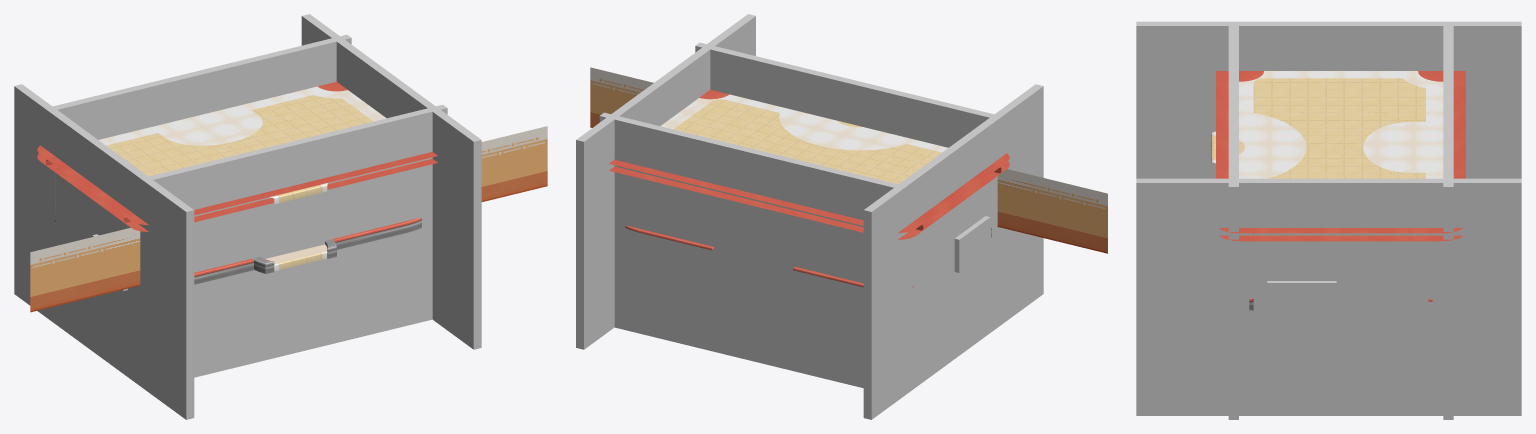
File: centre.glb
3 renders of one model, left to right at view 1: azimuth 30°, elevation 25°; view 2: azimuth 150°, elevation 25°; view 3: azimuth 270°, elevation 25°, orthographic. The views are drawn at different scales.
Parts seen in each view (by area): view 1: mur_sud_colli, mur_ouest_colli, mur_est_colli, mur_nord_colli, toit-1, f27d03c5953f706925a7d4350.001, toit, com_pc_flame_01.001, f27d03c5953f706925a7d4350.002, f27d03c5953f706925a7d4350, com_pc_flame_01; view 2: mur_nord_colli, mur_ouest_colli, mur_est_colli, mur_sud_colli, toit-1, f27d03c5953f706925a7d4350.001, com_pc_flame_01, toit, com_pc_flame_01.001, f27d03c5953f706925a7d4350.002, sofa_colli, toit_02; view 3: mur_est_colli, mur_ouest_colli, toit-1, toit, mur_sud_colli, mur_nord_colli, com_pc_flame_01.001, table_2_colli, com_pc_flame_01, toit_02.
Part boxes in pixels (box(x1,y1,x2,y2)): mur_sud_colli: box(145, 104, 447, 377); mur_ouest_colli: box(14, 84, 194, 419); mur_est_colli: box(301, 14, 481, 349); mur_nord_colli: box(49, 34, 351, 139); toit-1: box(106, 95, 373, 202); f27d03c5953f706925a7d4350.001: box(30, 228, 140, 312); toit: box(99, 86, 386, 204); com_pc_flame_01.001: box(45, 152, 437, 231); f27d03c5953f706925a7d4350.002: box(481, 126, 547, 201); f27d03c5953f706925a7d4350: box(134, 220, 421, 287); com_pc_flame_01: box(37, 81, 421, 276); mur_nord_colli: box(599, 112, 899, 388); mur_ouest_colli: box(863, 84, 1043, 419); mur_est_colli: box(576, 14, 755, 349); mur_sud_colli: box(695, 42, 996, 147); toit-1: box(673, 99, 941, 184); f27d03c5953f706925a7d4350.001: box(997, 169, 1107, 253); com_pc_flame_01: box(609, 159, 1001, 239); toit: box(660, 94, 948, 152); com_pc_flame_01.001: box(625, 89, 1009, 287); f27d03c5953f706925a7d4350.002: box(590, 67, 653, 127); sofa_colli: box(954, 216, 990, 272); toit_02: box(794, 110, 902, 143); mur_est_colli: box(1136, 178, 1521, 415); mur_ouest_colli: box(1136, 21, 1521, 178); toit-1: box(1211, 78, 1425, 178); toit: box(1211, 71, 1443, 178); mur_sud_colli: box(1228, 24, 1238, 419); mur_nord_colli: box(1443, 24, 1453, 419); com_pc_flame_01.001: box(1216, 71, 1432, 301); table_2_colli: box(1267, 281, 1336, 320); com_pc_flame_01: box(1249, 71, 1465, 301); toit_02: box(1239, 118, 1288, 176).
Size of the model in its own units: 2605 by 1000 by 1500.
Materials: 40 (40 with a texture image).
